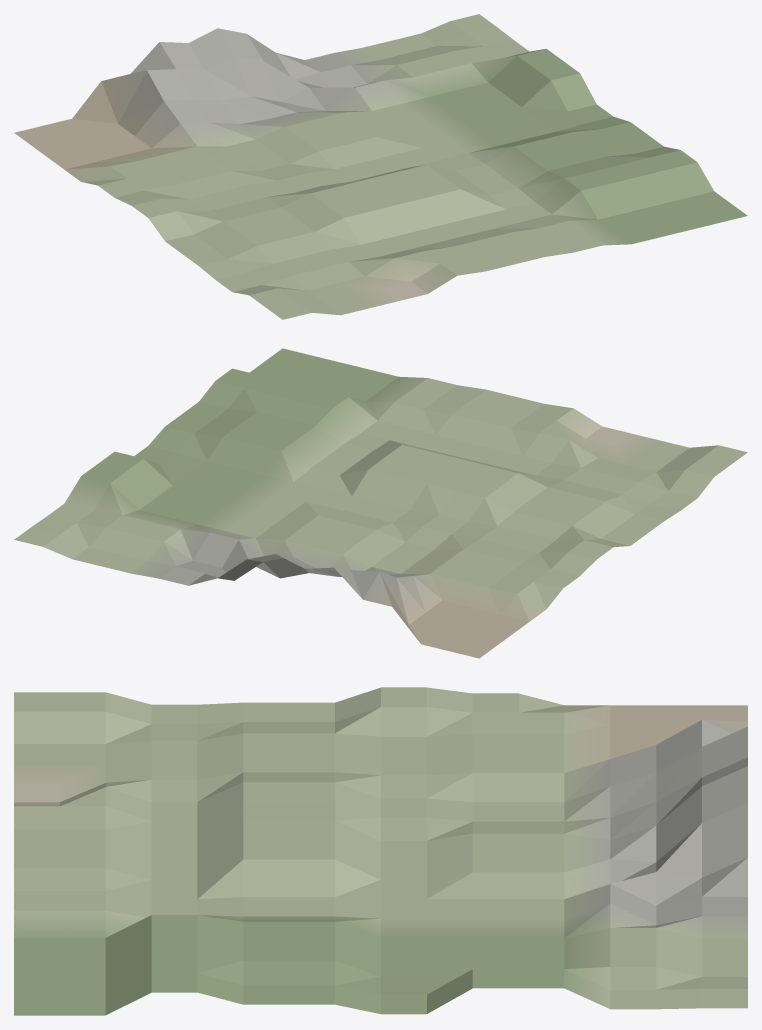
3 views of the same model, one above another, from view 1: azimuth 30°, elevation 25°; view 2: azimuth 150°, elevation 25°; view 3: azimuth 270°, elevation 25° (orthographic). The views are drawn at different scales.
Bounding box in the file's own units: 32 × 3.99 × 32.
